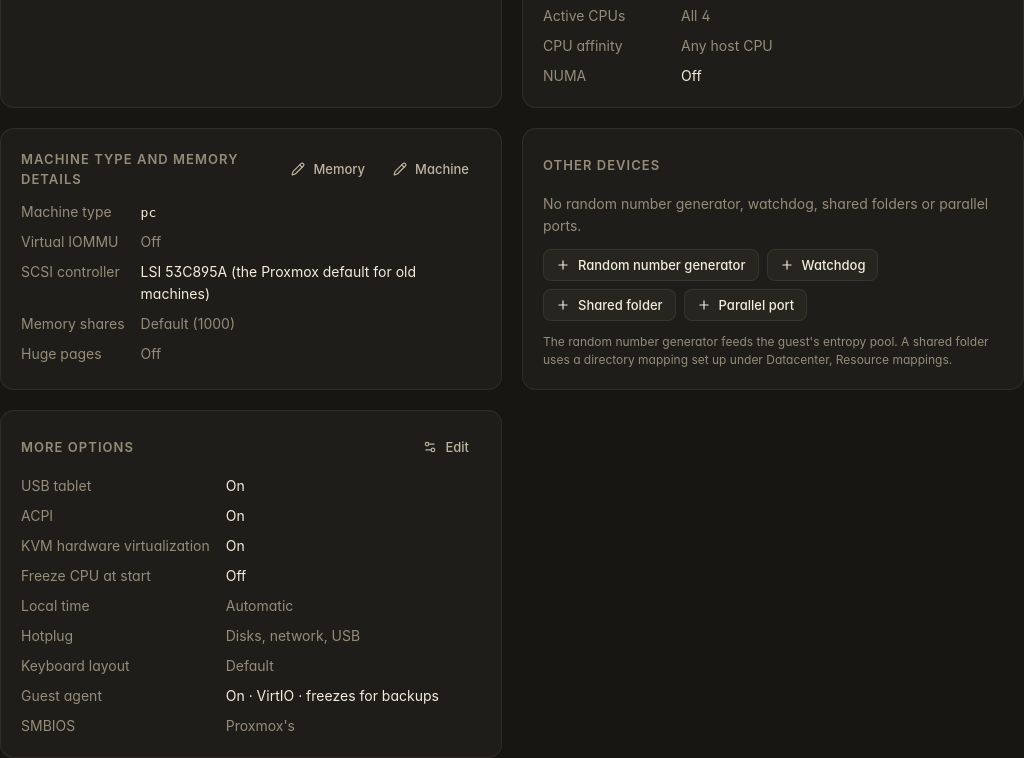
it: hardware: processor, machine type, devices and options (GU-021 to GU-027, GU-046 to GU-048, GU-070 to GU-075) › turns the USB tablet off in More options
(page scrolled)
Expected: the 1st text "On" is shown, [226,477,245,494]
Click the button "Edit" at (446, 447), box [411,431,481,463]
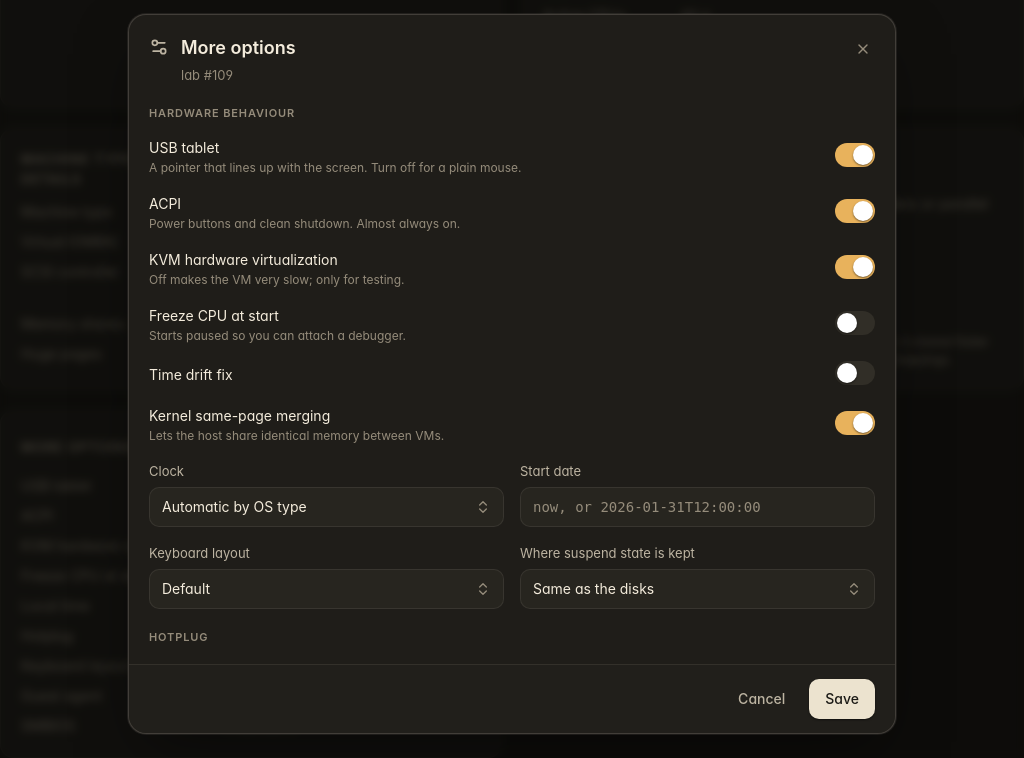
Click the switch named "USB tablet" at (855, 155), box [835,143,875,167]
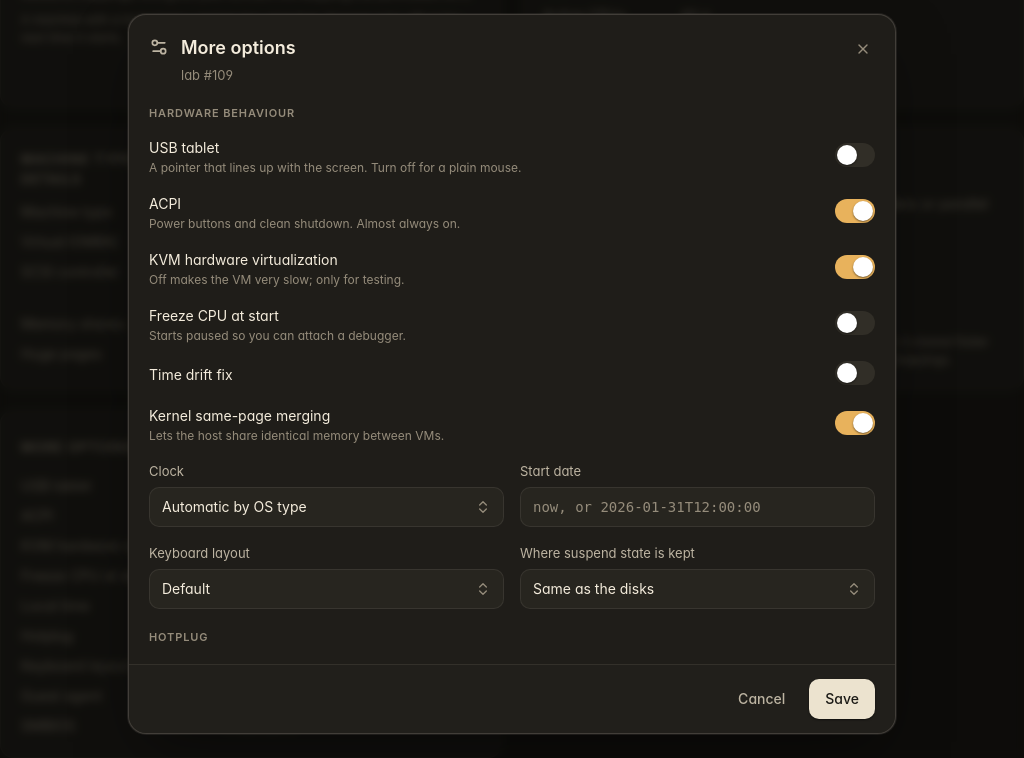
Click the button "Save" at (842, 699), box [809,679,875,719]
(page scrolled)
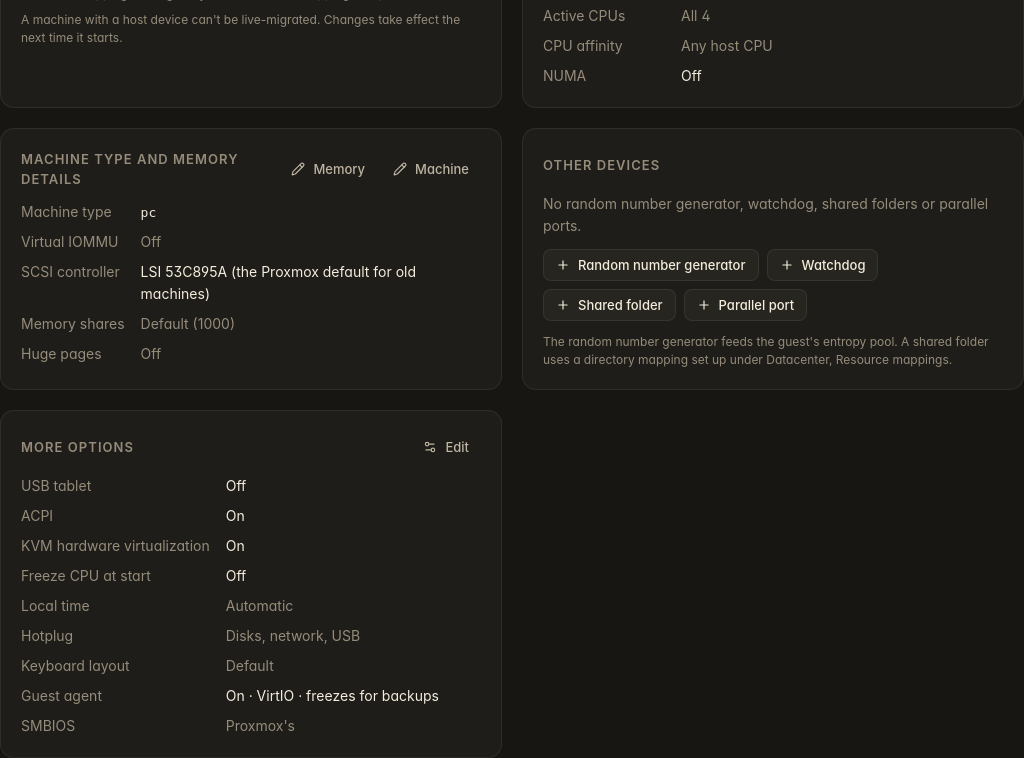
Expected: the 4th text "Off" is shown, [226,477,246,494]
